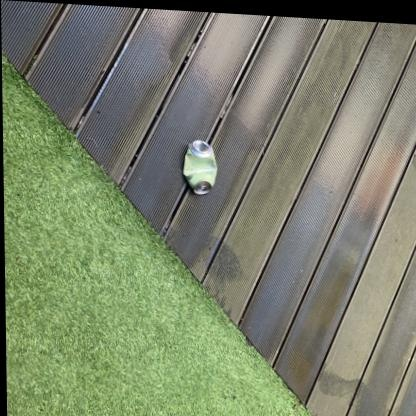trash: (183, 140, 216, 194)
